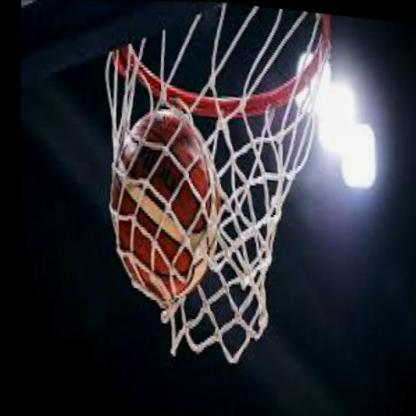basketball: (90, 102, 232, 302)
rim: (98, 1, 342, 127)
